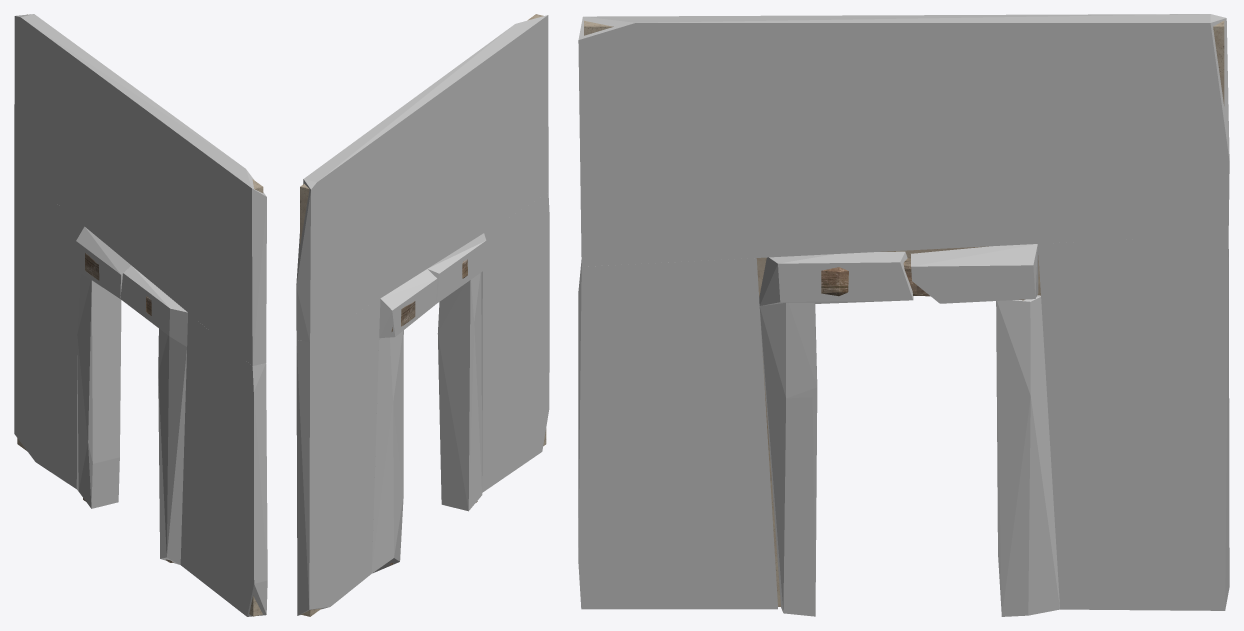
File: SM_Wall_Door_02.fbx
The picture shows the model from 3 angles, left to right: view 1: azimuth 30°, elevation 25°; view 2: azimuth 150°, elevation 25°; view 3: azimuth 270°, elevation 25°; orthographic projection. The views are drawn at different scales.
Visible parts, largest first — view 1: SM_Wall_Door_02_ConvexHulls, SM_Wall_Door_02; view 2: SM_Wall_Door_02_ConvexHulls, SM_Wall_Door_02; view 3: SM_Wall_Door_02_ConvexHulls, SM_Wall_Door_02.
Boxes of the visible parts, bbox=[...] form: SM_Wall_Door_02_ConvexHulls: bbox=[14, 14, 267, 616]; SM_Wall_Door_02: bbox=[17, 14, 263, 616]; SM_Wall_Door_02_ConvexHulls: bbox=[296, 15, 549, 615]; SM_Wall_Door_02: bbox=[300, 14, 546, 616]; SM_Wall_Door_02_ConvexHulls: bbox=[578, 14, 1229, 616]; SM_Wall_Door_02: bbox=[584, 20, 1224, 606].
Bounding box in the file's own units: 35.34 × 407 × 407.
